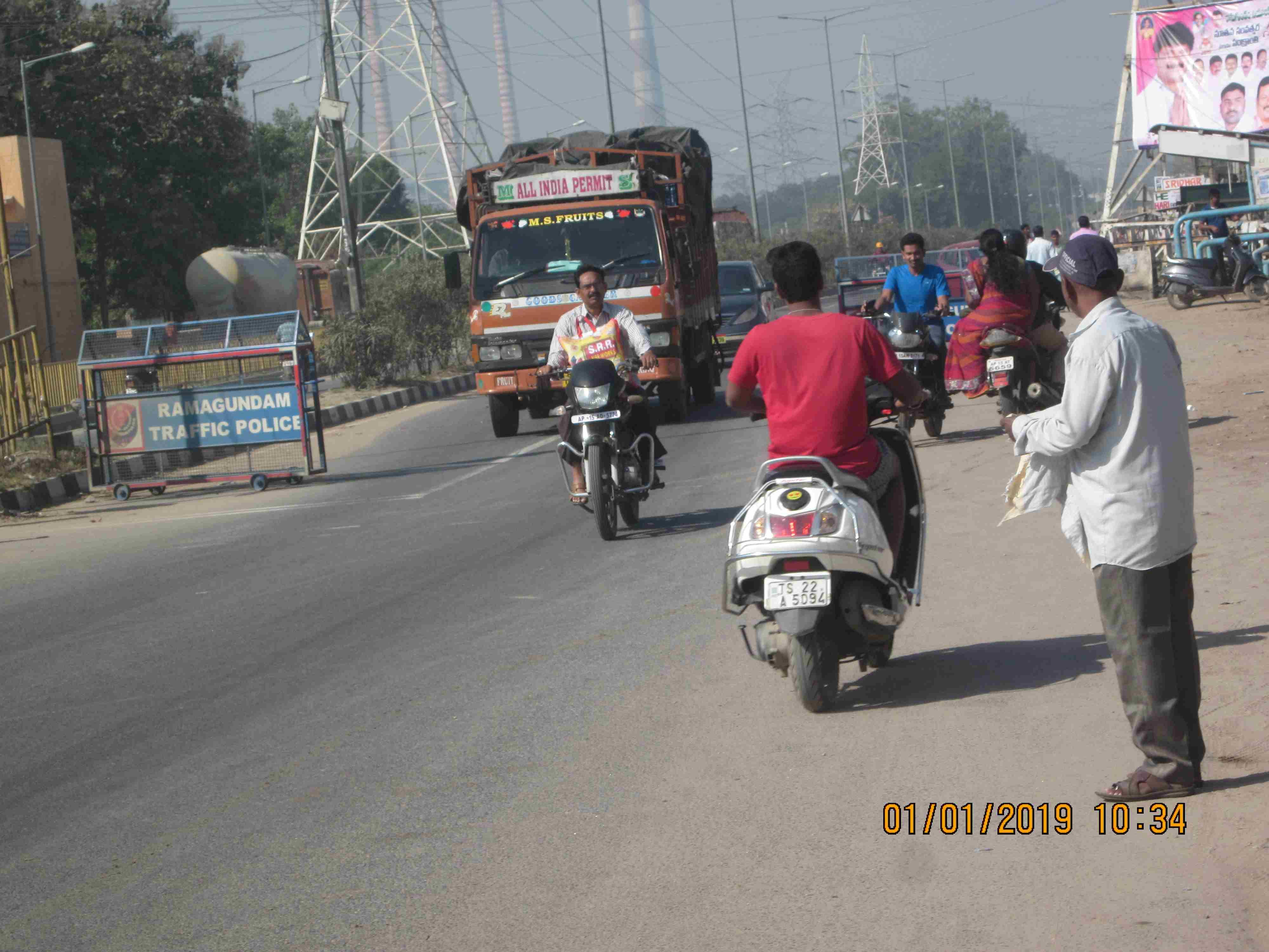plate: (762, 570, 837, 610), (568, 408, 624, 424)
